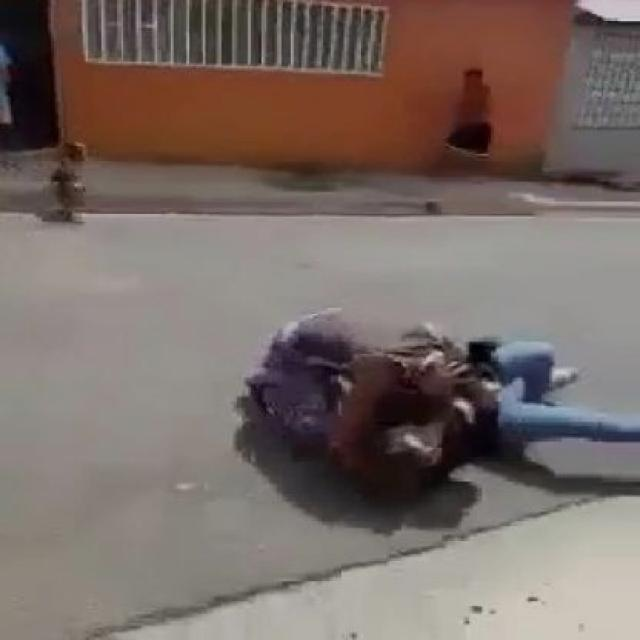fight: (241, 307, 640, 504)
